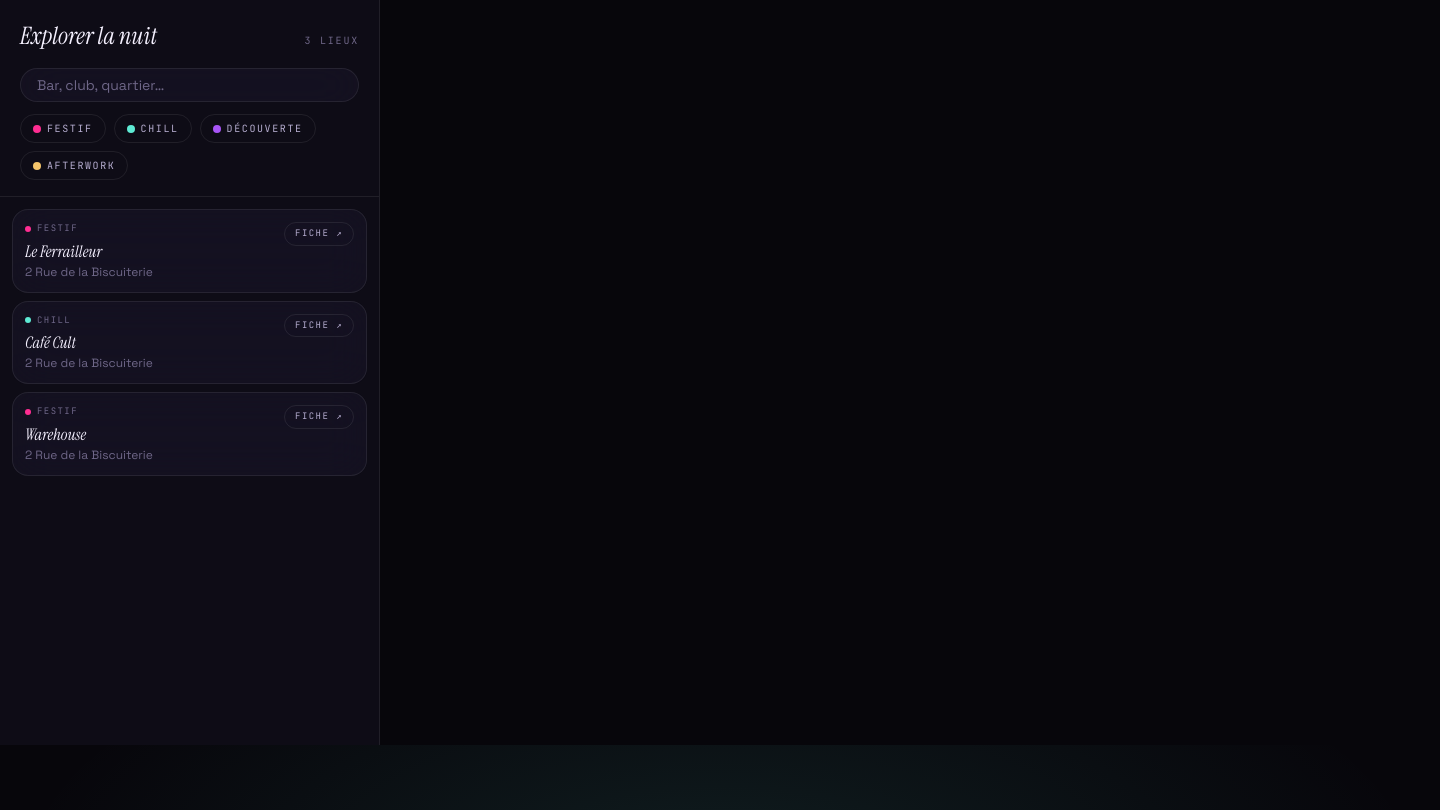
Test: ExplorerPage › filters the list by mood
Click the button with test id "explorer-mood-filter": coordinates (63, 128) [20,114,106,143]
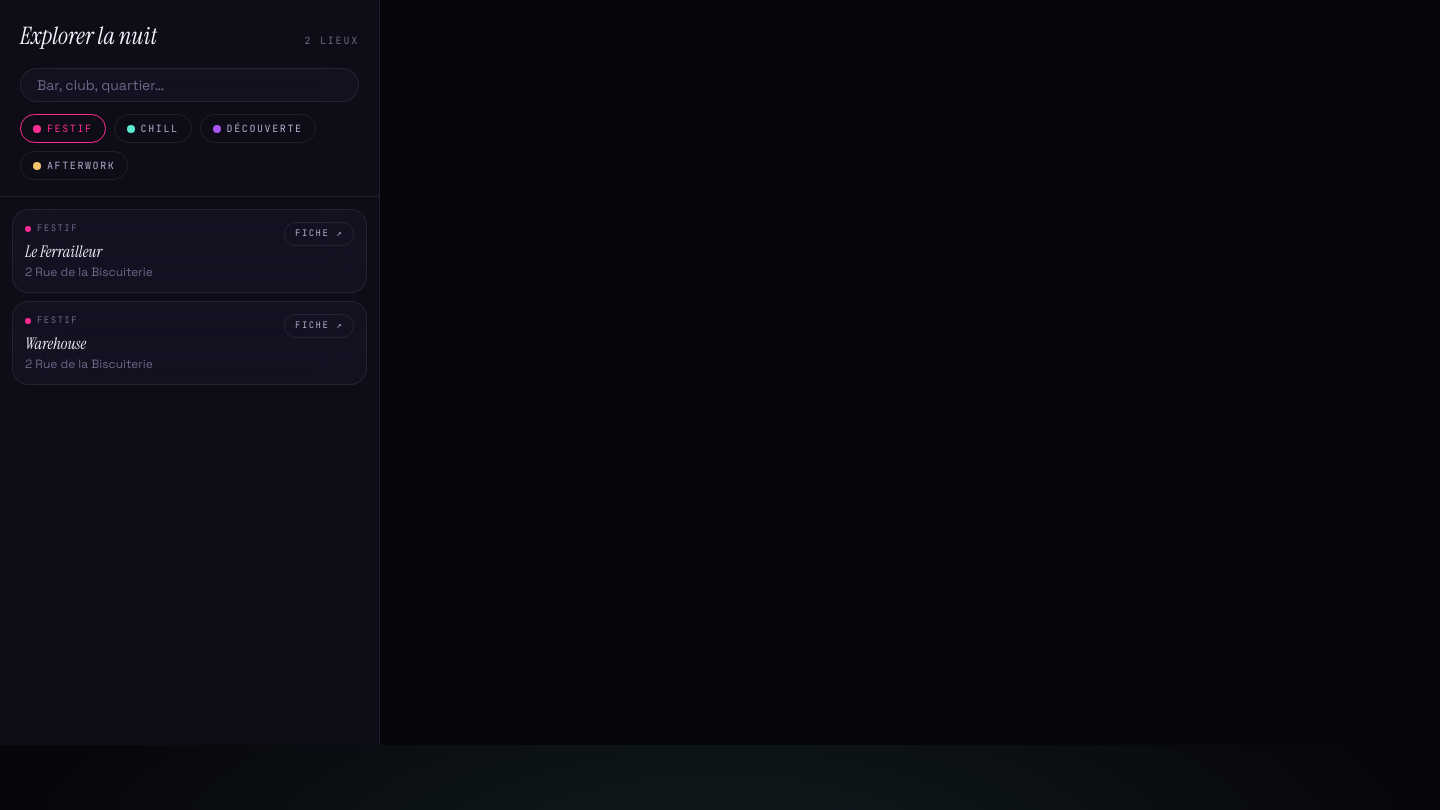
Expected: the number of list items with test id "explorer-venue" is 2, [12,209,367,292]; [12,300,367,384]
Expected: the text "Café Cult" is gone
